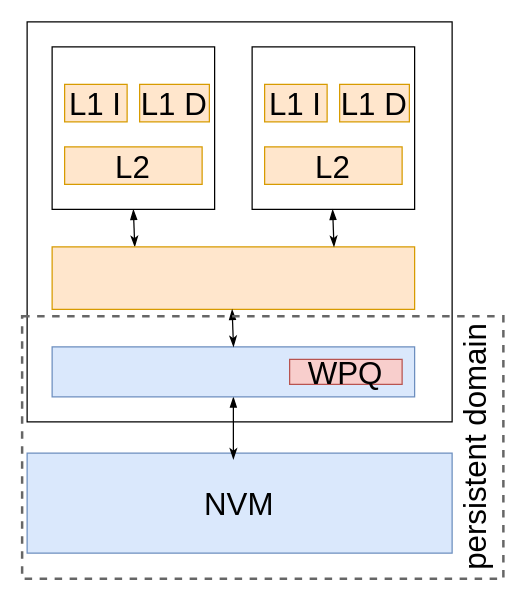
The diagram is 526 pixels wide and 611 high, and some of its shapes have lost their labels. The shapes that lost their labels are listed below. From the top down, each one's box as (x1, y1, x2, y2) in pixels, then its label:
(51, 246, 415, 309): LLC
(51, 346, 415, 397): MC
